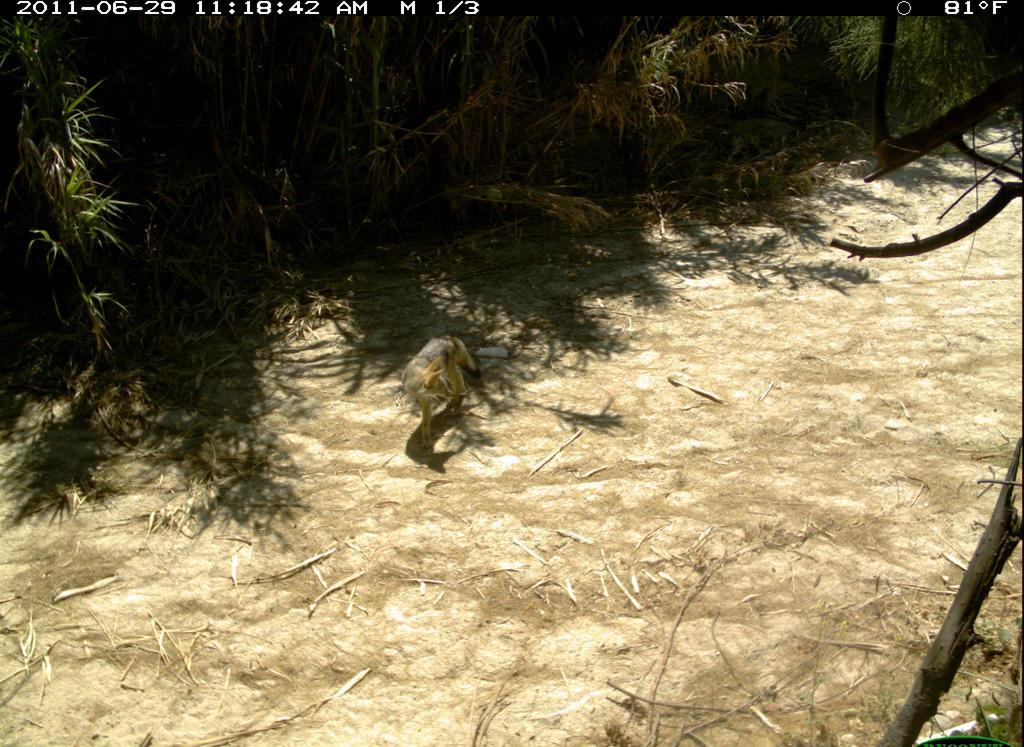coyote: (392, 327, 495, 472)
